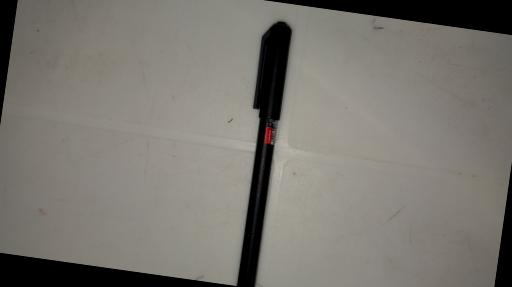pen: (227, 19, 295, 287)
